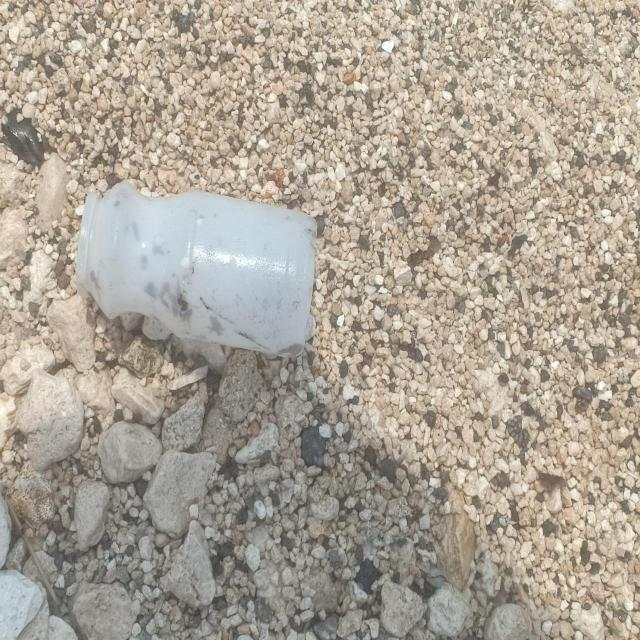plastic_waste: (79, 181, 318, 358)
